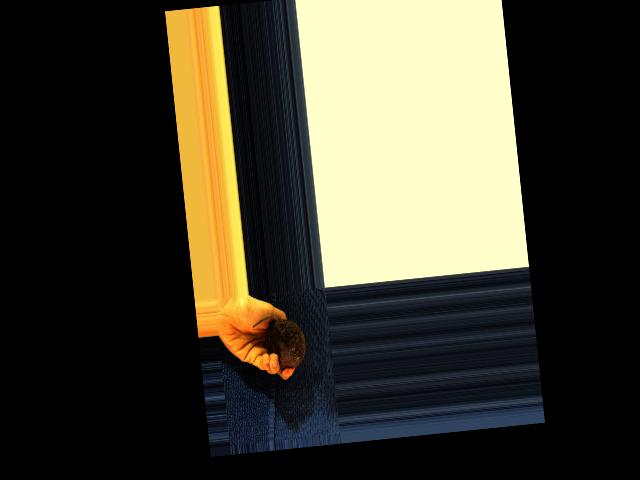beet: (250, 312, 307, 372)
